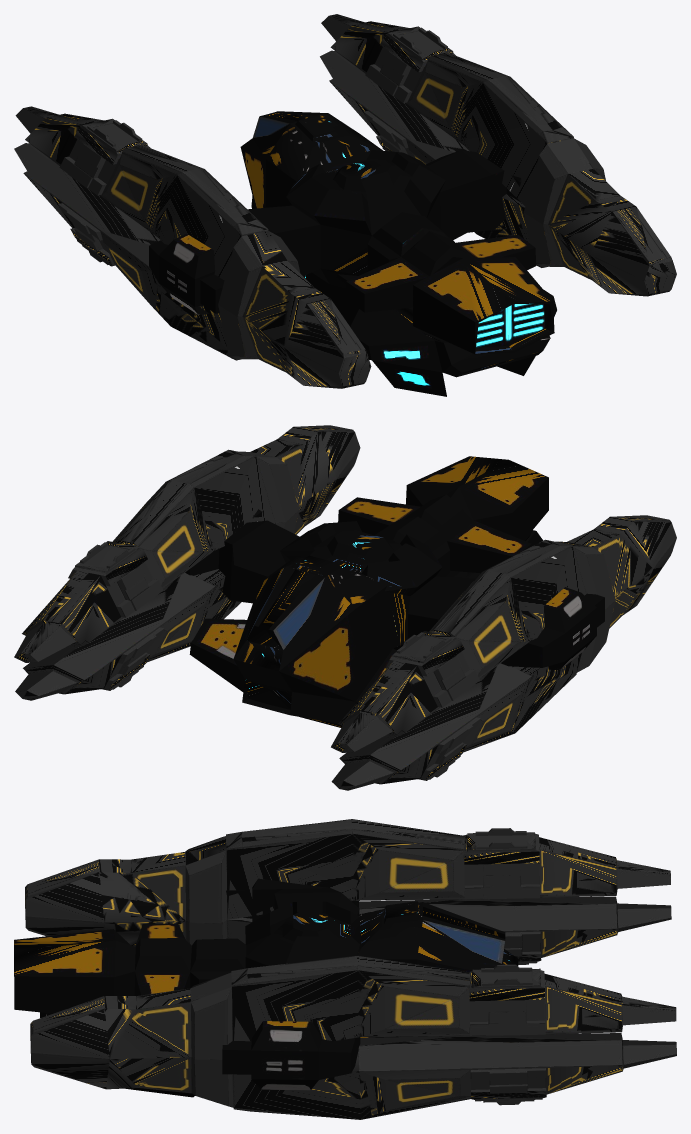
File: frigate-1-3.glb
3 renders of one model, top to bottom at view 1: azimuth 30°, elevation 25°; view 2: azimuth 150°, elevation 25°; view 3: azimuth 270°, elevation 25°, orthographic.
Visible parts, largest first — view 1: frigate-1-3_0, frigate-1-3_1; view 2: frigate-1-3_0, frigate-1-3_1; view 3: frigate-1-3_0, frigate-1-3_1.
Part boxes in pixels (x1,y1,x2,y2): frigate-1-3_0: (14,14,676,388); frigate-1-3_1: (149,111,556,396); frigate-1-3_0: (14,425,676,790); frigate-1-3_1: (185,456,604,727); frigate-1-3_0: (25,819,676,1119); frigate-1-3_1: (14,878,518,1097).
Size of the model in its own units: 0.7201 by 0.3234 by 1.
Materials: 2 (2 with a texture image).
